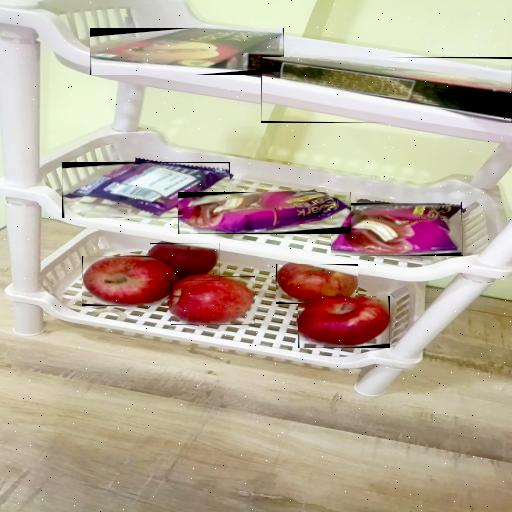Apple: (298, 296, 390, 348), (82, 256, 176, 306), (171, 276, 255, 325), (276, 264, 358, 304), (150, 243, 220, 281)
Choco Fills: (261, 57, 512, 123), (90, 28, 284, 75)
Choco Pie: (62, 162, 230, 218), (178, 192, 351, 234), (332, 203, 464, 256)
